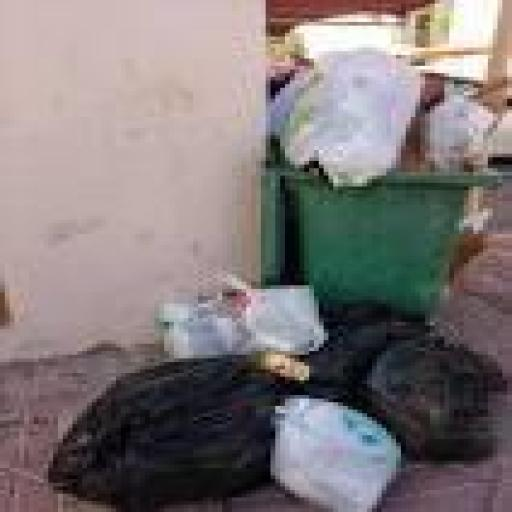poubelle_pleine: (193, 48, 512, 371)
